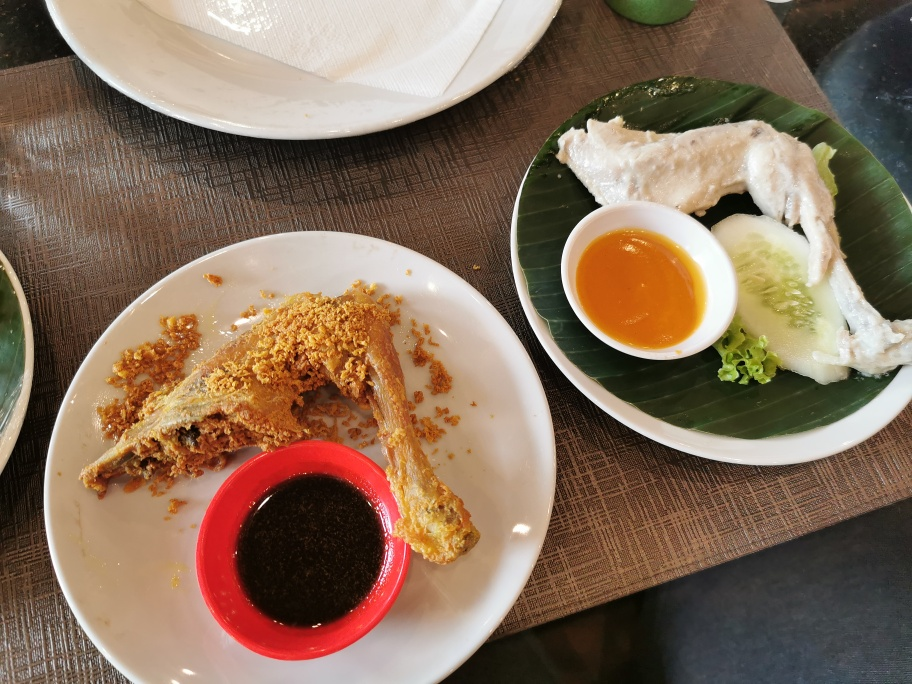ayam goreng: (79, 286, 474, 569)
ayam pop: (554, 112, 912, 375)
extra: (564, 199, 854, 387)
kecap: (204, 425, 410, 649)
